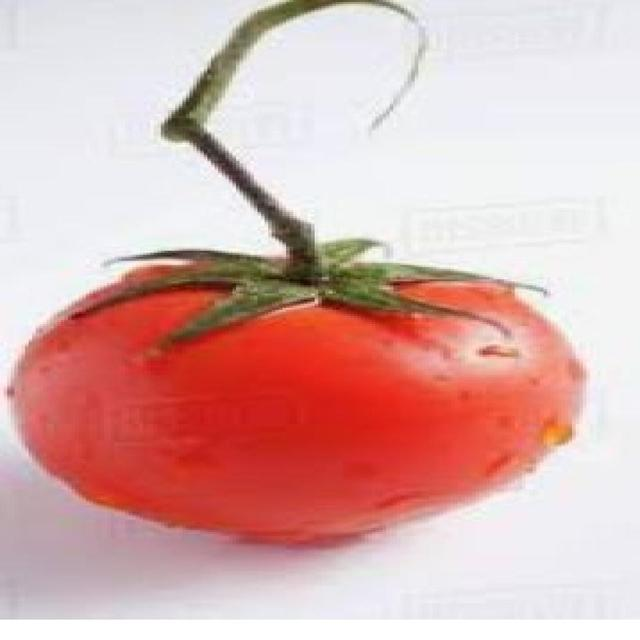Healthy Fruit: (8, 148, 400, 357)
